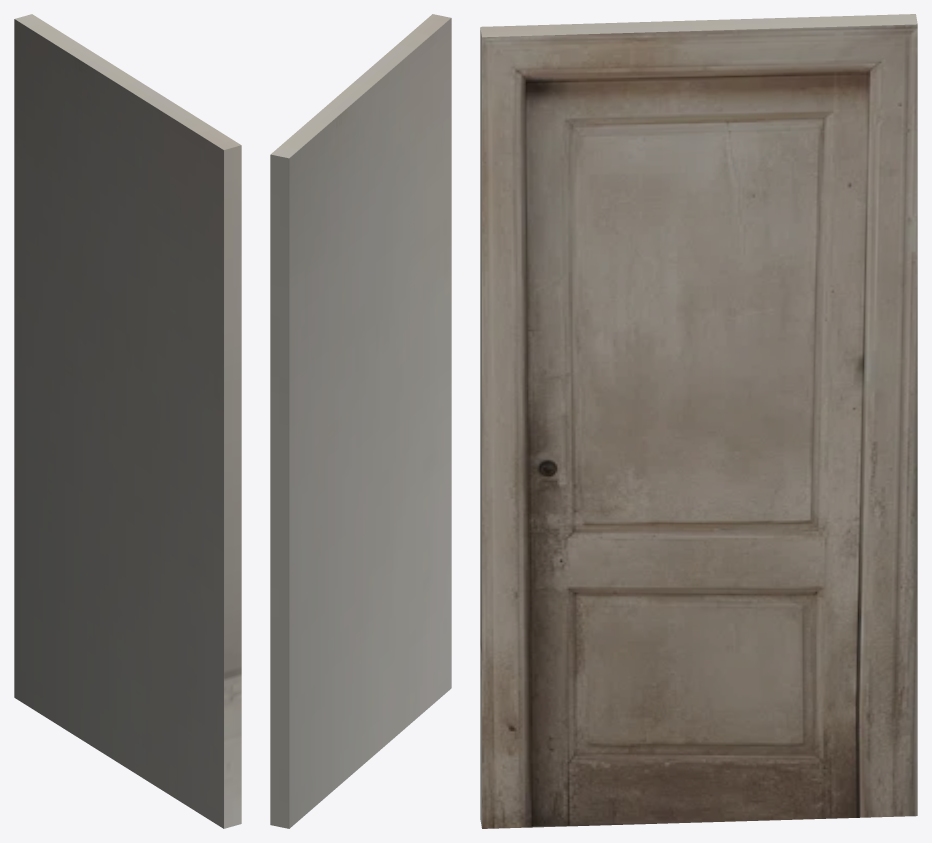
Rendered from vrata.glb.
The picture shows the model from 3 angles, left to right: view 1: azimuth 30°, elevation 25°; view 2: azimuth 150°, elevation 25°; view 3: azimuth 270°, elevation 25°; orthographic projection. The views are drawn at different scales.
Visible parts, largest first — view 1: Cube; view 2: Cube; view 3: Cube.
Boxes of the visible parts, x1=… form: Cube: x1=14, y1=14, x2=241, y2=828; Cube: x1=270, y1=14, x2=451, y2=828; Cube: x1=480, y1=14, x2=917, y2=828.
Bounding box in the file's own units: 0.2527 × 4 × 2.
Materials: 1 (1 with a texture image).
